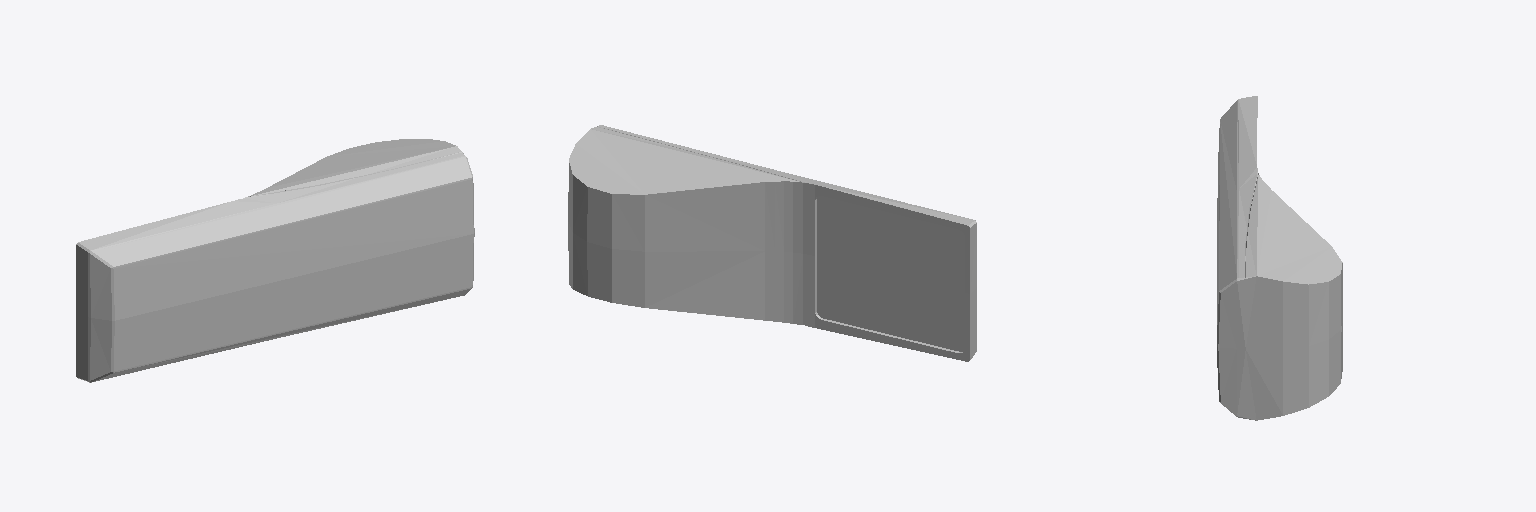
Rendered from Streetlight_10_Micro.obj.
The picture shows the model from 3 angles: view 1: azimuth 30°, elevation 25°; view 2: azimuth 150°, elevation 25°; view 3: azimuth 270°, elevation 25°; orthographic projection.
Visible parts, largest first — view 1: BezierCurve.005; view 2: BezierCurve.005, Glas; view 3: BezierCurve.005.
Boxes of the visible parts, x1=… form: BezierCurve.005: x1=76, y1=139, x2=474, y2=382; BezierCurve.005: x1=568, y1=125, x2=976, y2=361; Glas: x1=817, y1=196, x2=964, y2=351; BezierCurve.005: x1=1217, y1=96, x2=1342, y2=420.
Size of the model in its own units: 0.479 by 0.1732 by 0.1379.